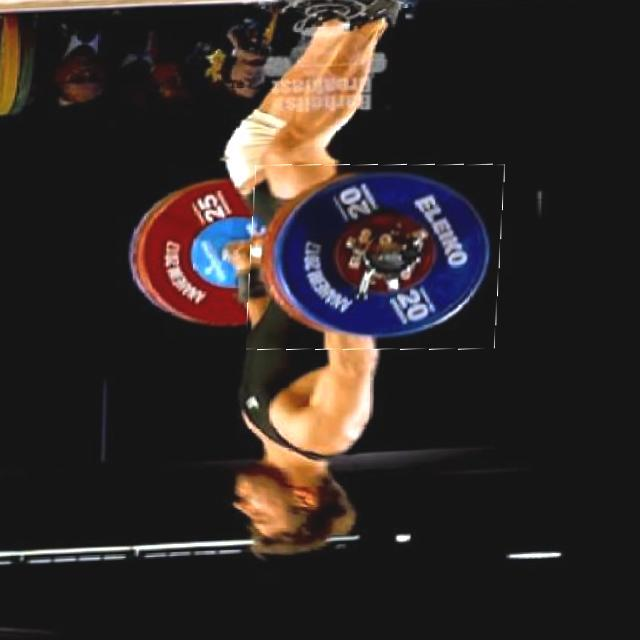barbell: (250, 163, 505, 359)
